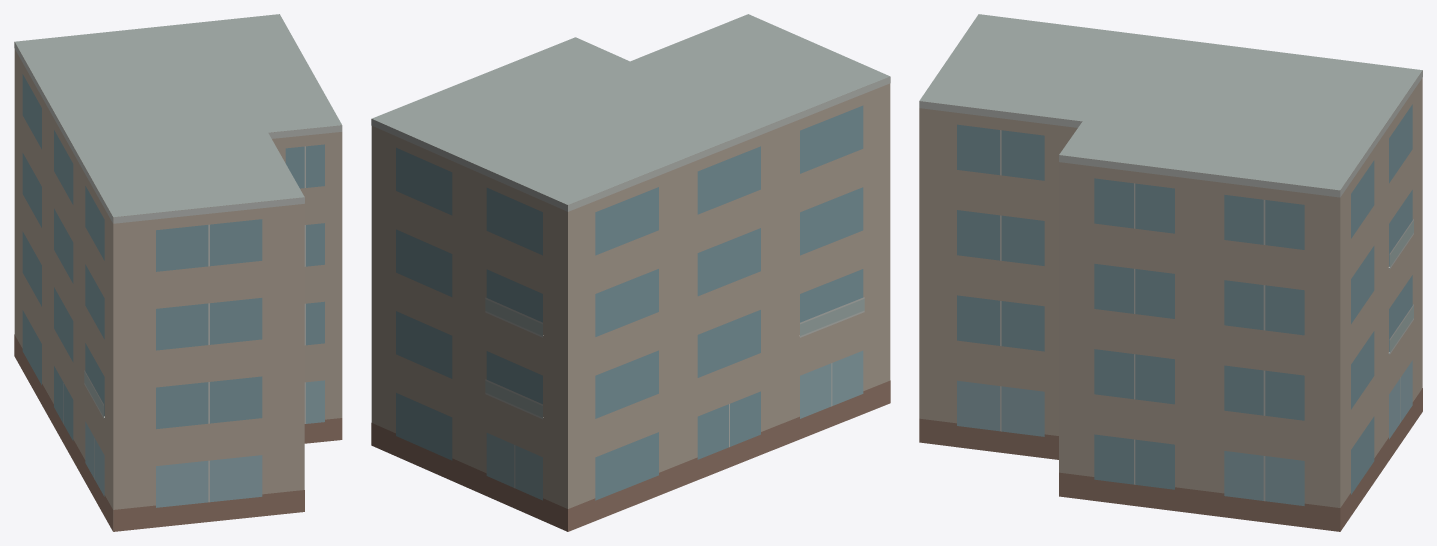
The model's file is survey-upis-32868086.glb.
The picture shows the model from 3 angles, left to right: view 1: azimuth 30°, elevation 25°; view 2: azimuth 150°, elevation 25°; view 3: azimuth 270°, elevation 25°; orthographic projection. The views are drawn at different scales.
Visible parts, largest first — view 1: survey-upis-32868086.tmp; view 2: survey-upis-32868086.tmp; view 3: survey-upis-32868086.tmp.
Boxes of the visible parts, <box> form: survey-upis-32868086.tmp: <box>14,14,342,531</box>; survey-upis-32868086.tmp: <box>371,14,890,531</box>; survey-upis-32868086.tmp: <box>919,14,1422,531</box>.
Bounding box in the file's own units: 12.97 × 11.7 × 15.65.
